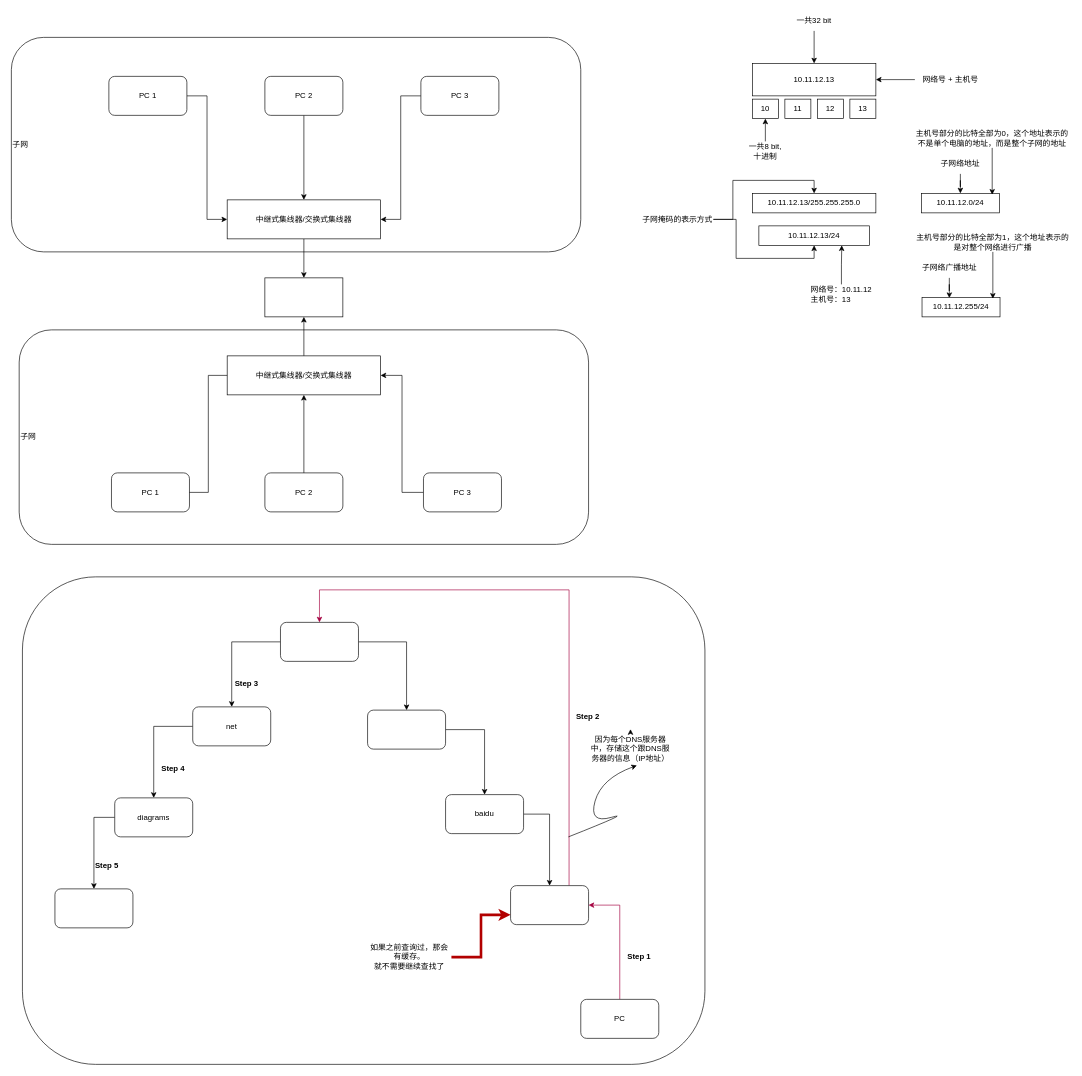
Some shapes in this 1082 by 1076 pixel diagram are drawn without their labels. Each missing label, with the box of its shape:
app: (54, 888, 133, 928)
com: (367, 709, 446, 749)
DNS服务器布局: (22, 576, 705, 1064)
最新DNS服务器: (510, 885, 589, 925)
根域: (280, 622, 358, 661)
路由器: (264, 277, 343, 317)
